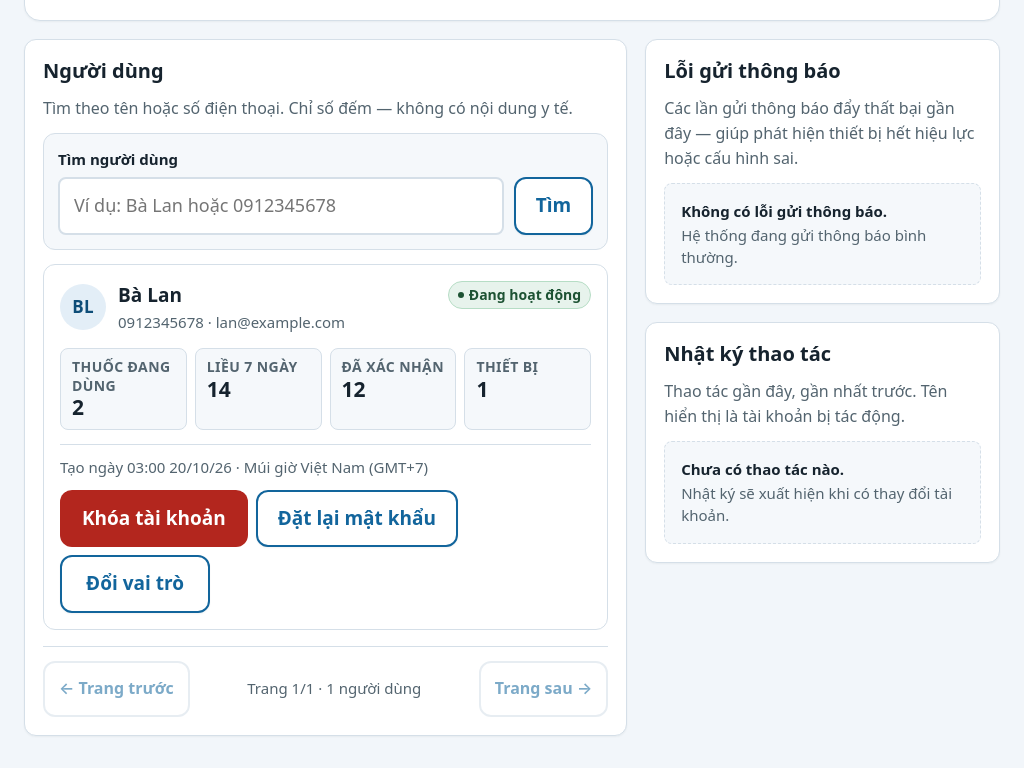
Khu vực quản trị (chỉ đọc + khóa/mật khẩu) › đặt lại mật khẩu: chặn mật khẩu ngắn và hai lần nhập lệch
(page scrolled)
Expected: the heading "Bà Lan" is shown, [118,282,182,308]
Step 1. Click the button with aria-label "Đặt lại mật khẩu cho Bà Lan" → {"x": 357, "y": 519}, box [256,490,458,547]
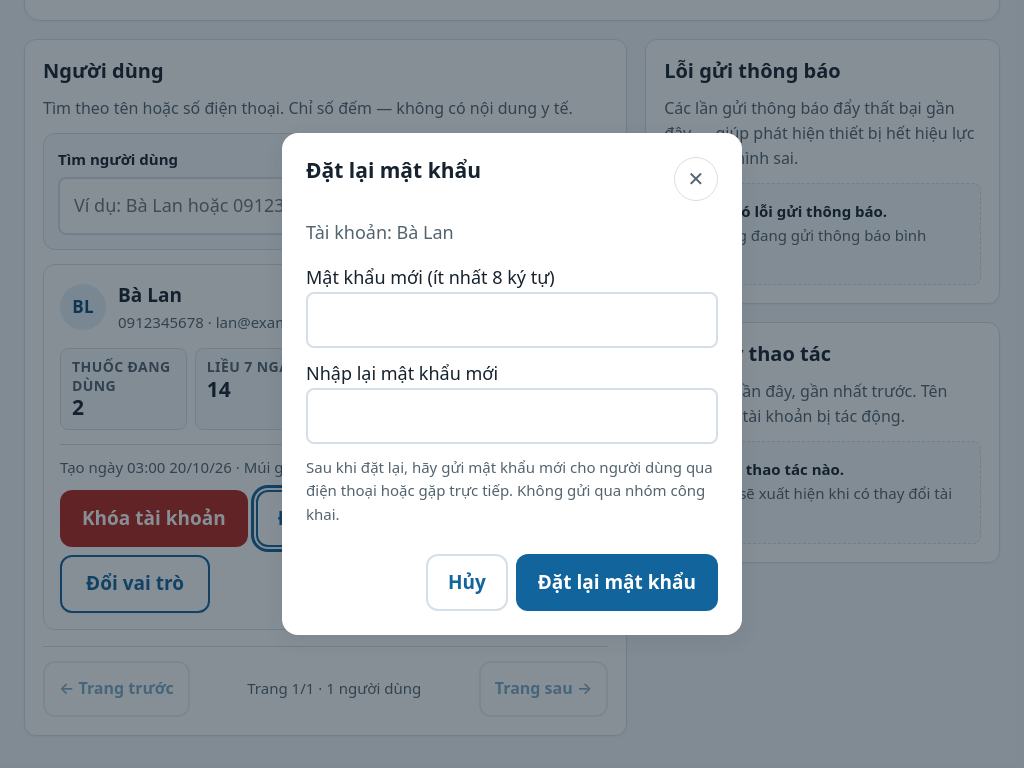
Step 2. Type "123" into the password field labelled "Mật khẩu mới (ít nhất 8 ký tự)" → {"x": 512, "y": 320}, box [306,292,718,348]
Step 3. Type "123" into the password field labelled "Nhập lại mật khẩu mới" → {"x": 512, "y": 416}, box [306,388,718,444]
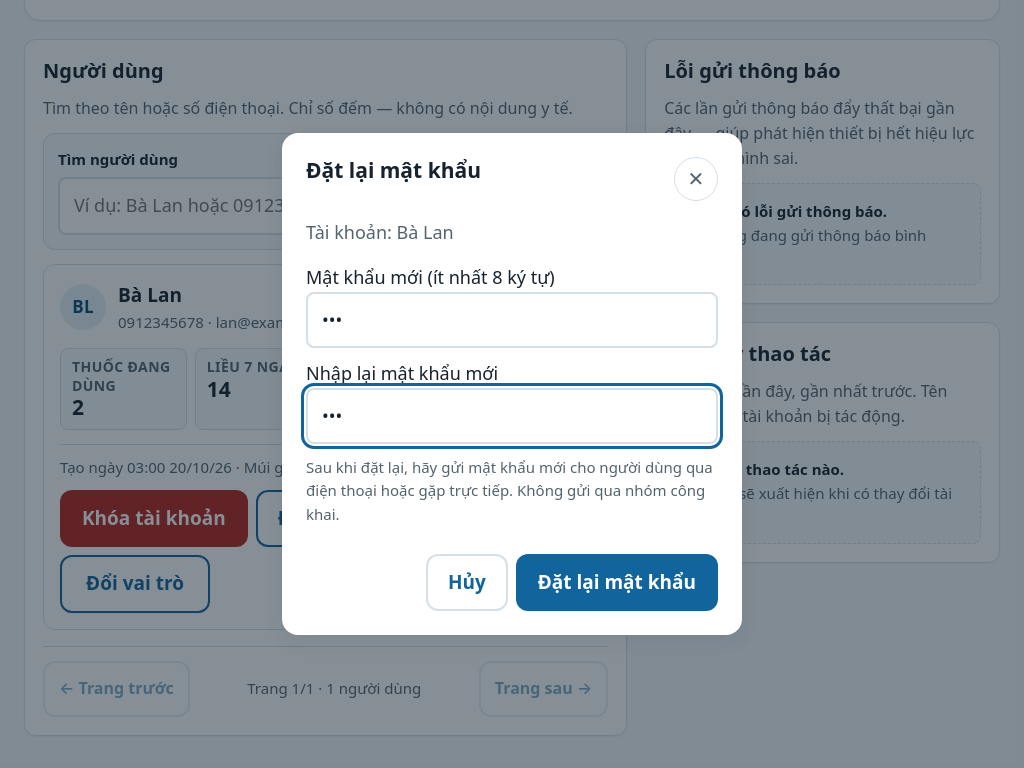
Step 4. Click the button "Đặt lại mật khẩu" → {"x": 617, "y": 583}, box [516,554,718,611]
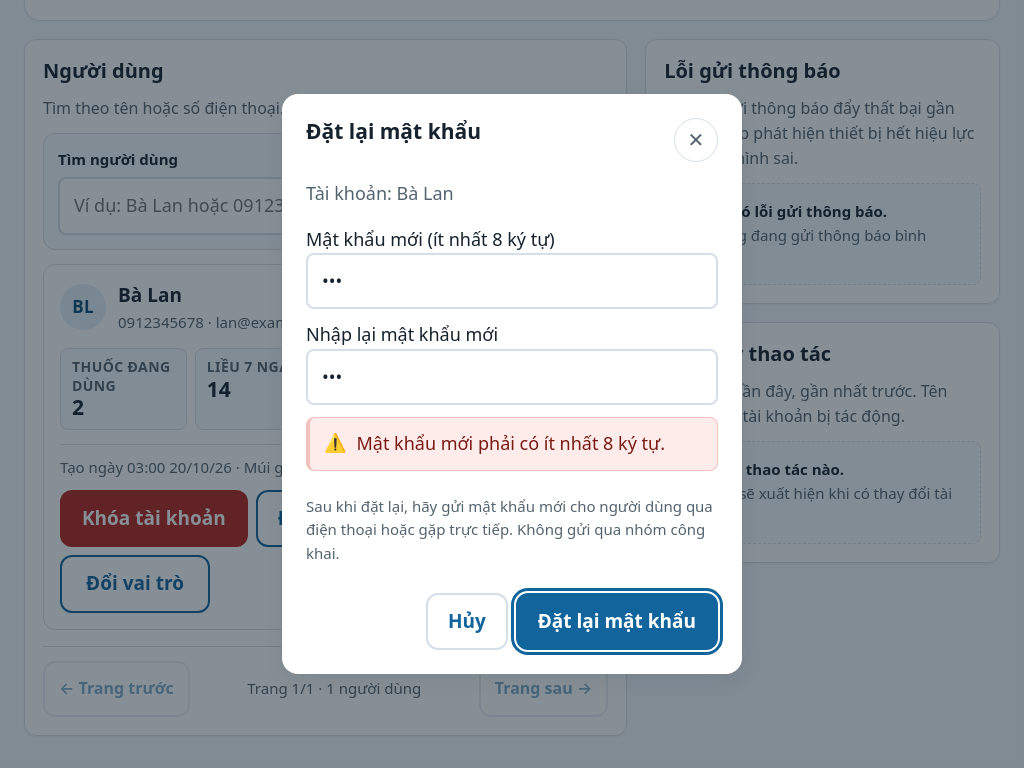
Result: the text "Mật khẩu mới phải có ít nhất 8 ký tự." is shown at [356,430,703,458]
Step 5. Type "matkhaumoi123" into the password field labelled "Mật khẩu mới (ít nhất 8 ký tự)" → {"x": 512, "y": 281}, box [306,253,718,309]
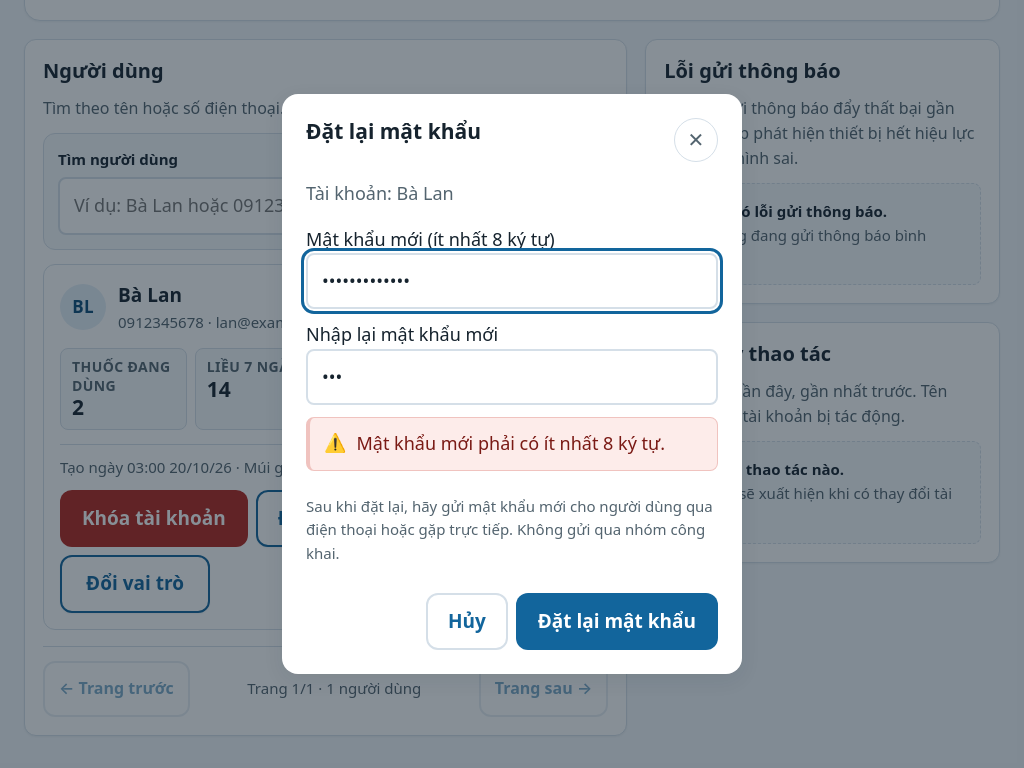
Step 6. Type "khacnhau123" into the password field labelled "Nhập lại mật khẩu mới" → {"x": 512, "y": 377}, box [306,349,718,405]
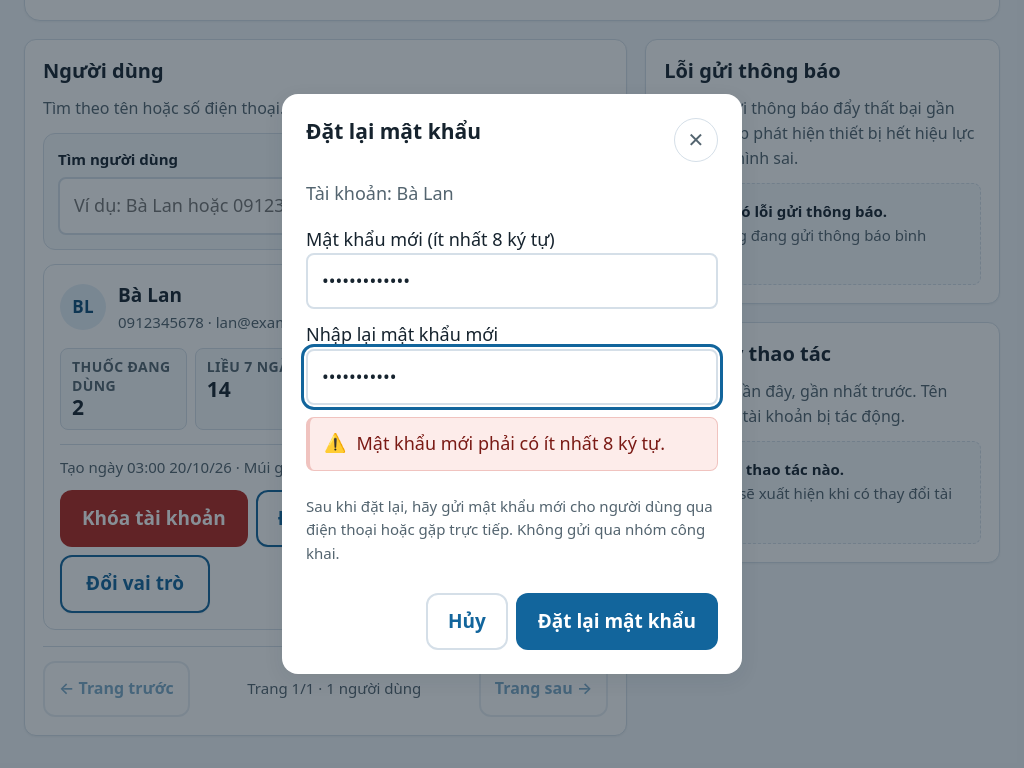
Step 7. Click the button "Đặt lại mật khẩu" → {"x": 617, "y": 622}, box [516,593,718,650]
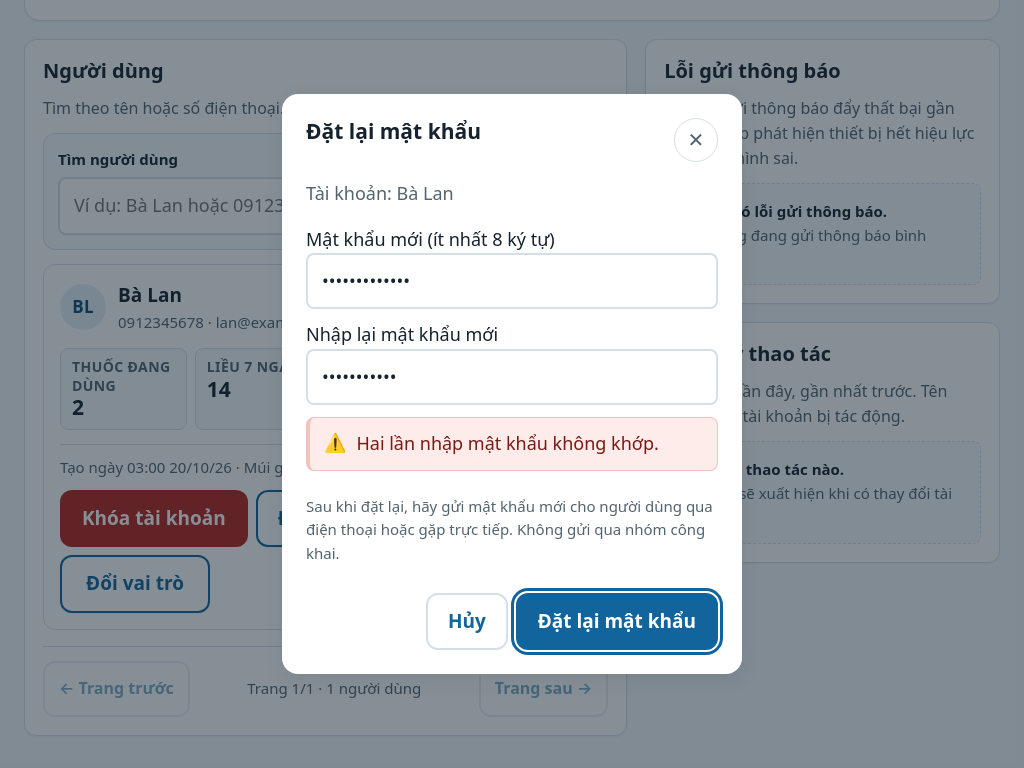
Result: the text "Hai lần nhập mật khẩu không khớp." is shown at [356,430,703,458]
